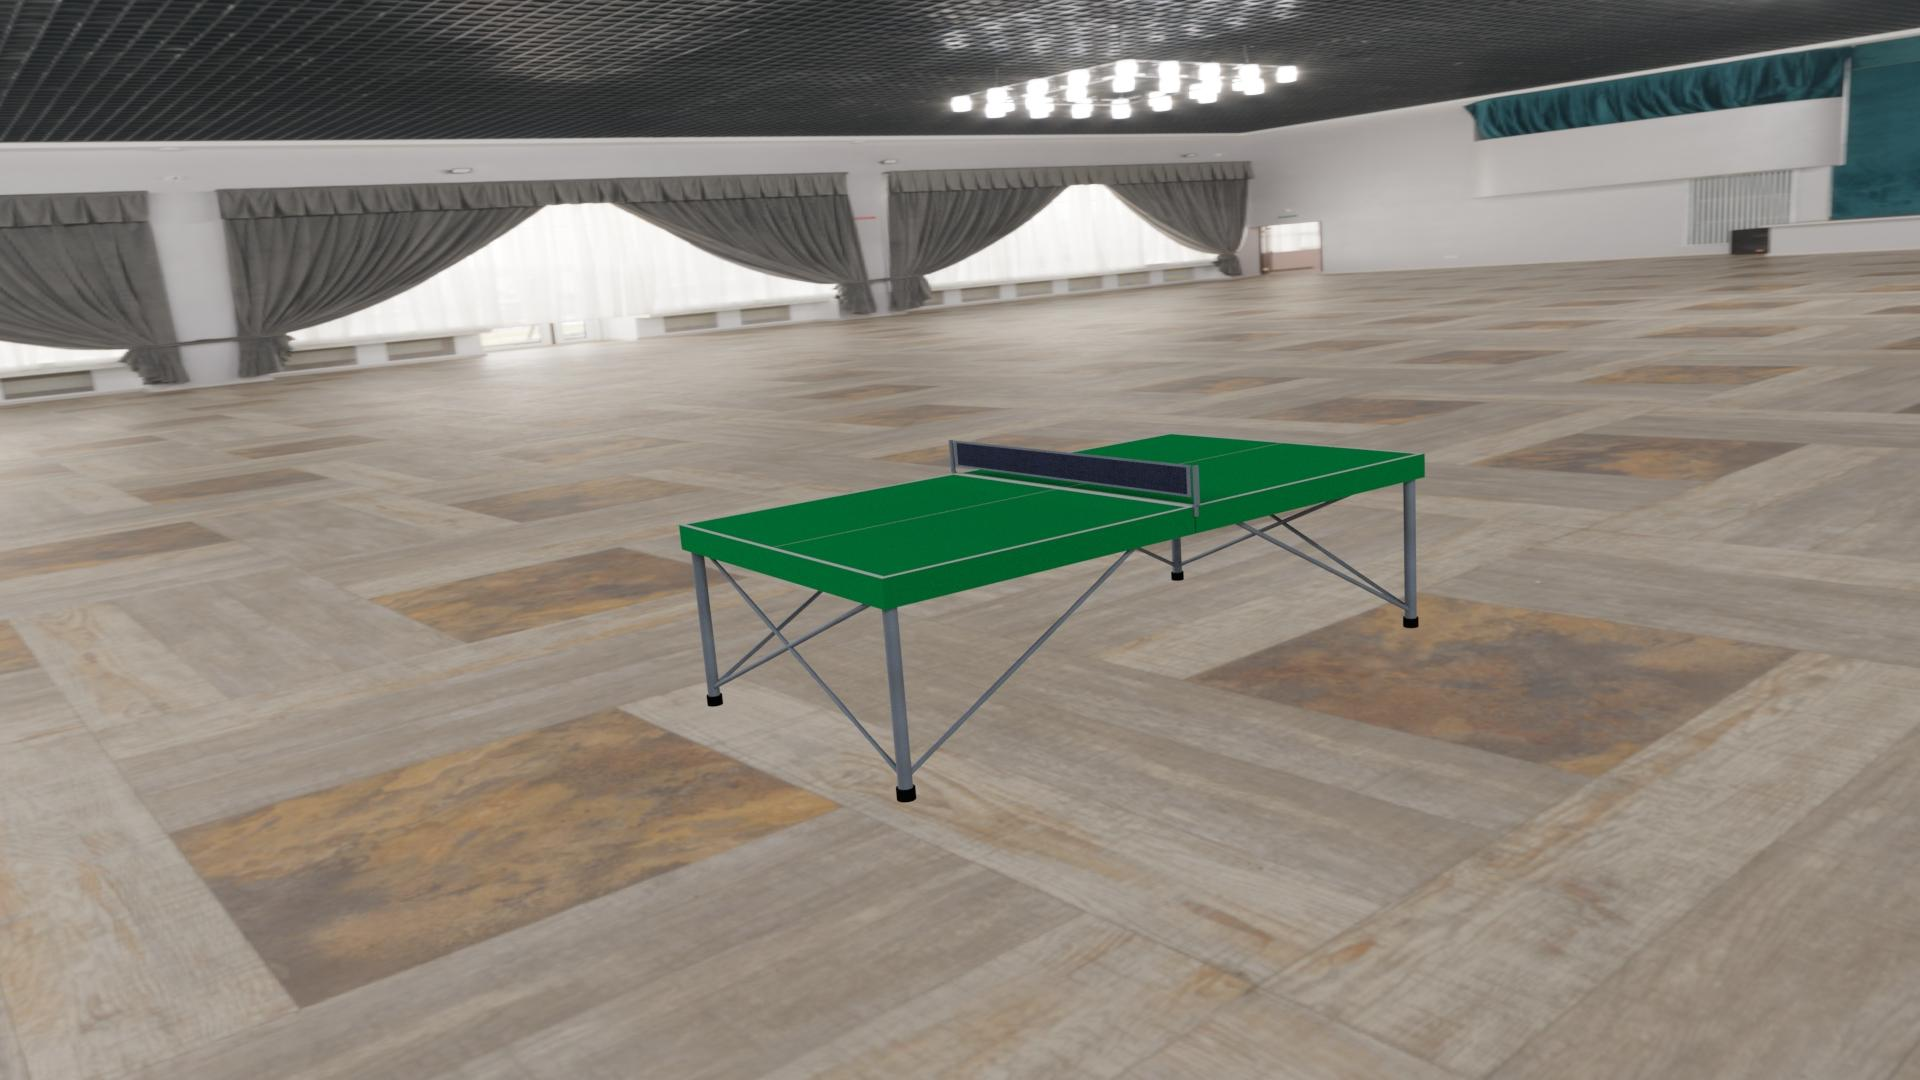table: (686, 434, 1418, 576)
